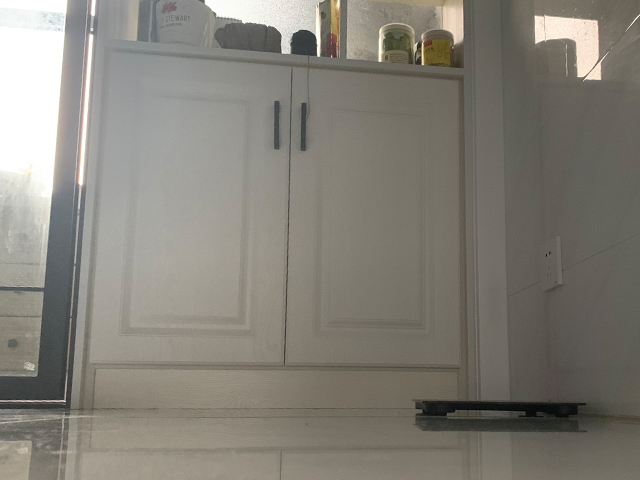cabinet: (68, 40, 469, 412)
